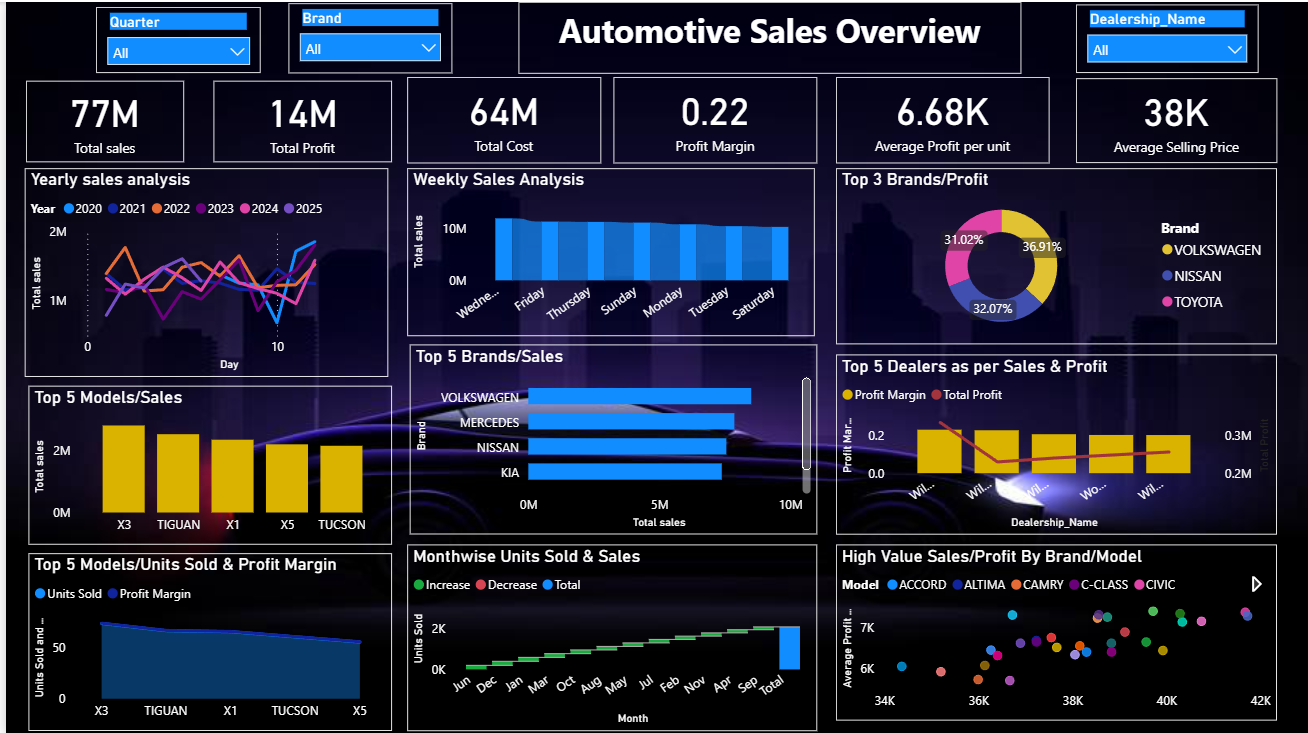

What the dashboard file says about the page in this screenshot:
{"tool":"powerbi","page":{"name":"Page 1","canvas":[1280,720],"ordinal":0},"visuals":[{"type":"textbox","box":[503.3,0,493.3,70],"z":0},{"type":"card","fields":{"Values":["Sales.Total sales"]},"box":[20,77.3,155,80],"z":1000},{"type":"card","fields":{"Values":["Sales.Profit Margin"]},"box":[596.3,73.6,200,84.7],"z":2000},{"type":"card","fields":{"Values":["Sales.Total Profit"]},"box":[203.7,77.3,175.5,79.8],"z":3000},{"type":"card","fields":{"Values":["Sales.Total Cost"]},"box":[393.9,73.6,190.2,84.7],"z":4000},{"type":"card","fields":{"Values":["Sales.Average Selling Price"]},"box":[1050.3,74.8,197.5,83.4],"z":5000},{"type":"card","fields":{"Values":["Sales.Average Profit per unit"]},"box":[814.7,73.6,209.8,84.7],"z":6000},{"type":"slicer","fields":{"Values":["DimCars.Brand"]},"box":[277.3,1.2,160.7,68.7],"z":7000},{"type":"slicer","fields":{"Values":["DimDate.Quarter"]},"box":[88.3,4.9,162,65],"z":8000},{"type":"slicer","fields":{"Values":["DimDealership.Dealership_Name"]},"box":[1050.3,2.5,179.1,67.5],"z":9000},{"type":"lineChart","title":"Yearly sales analysis","fields":{"Category":["DimDate.Date.Variation.Date Hierarchy.Day"],"Y":["Sales.Total sales"],"Series":["DimDate.Date.Variation.Date Hierarchy.Year"]},"box":[18.4,163.2,357.1,204.9],"z":10000},{"type":"ribbonChart","title":"Weekly Sales Analysis","fields":{"Y":["Sales.Total sales"],"Category":["DimDate.Weekday"]},"box":[393.9,163.2,400,164.4],"z":11000},{"type":"columnChart","title":"Top 5 Models/Sales","fields":{"Category":["DimCars.Model"],"Y":["Sales.Total sales"]},"box":[22.1,376.7,357.1,155.8],"z":12000},{"type":"barChart","title":"Top 5 Brands/Sales","fields":{"Category":["Sales.Brand"],"Y":["Sales.Total sales"]},"box":[396.3,336.2,400,186.5],"z":13000},{"type":"donutChart","title":"Top 3 Brands/Profit","fields":{"Category":["Sales.Brand"],"Y":["Sales.Total Profit"]},"box":[814.7,163.2,433.1,173],"z":14000},{"type":"lineClusteredColumnComboChart","title":"Top 5 Dealers as per Sales & Profit","fields":{"Category":["DimDealership.Dealership_Name"],"Y":["Sales.Profit Margin"],"Y2":["Sales.Total Profit"]},"box":[814.7,346,433.1,176.7],"z":15000},{"type":"stackedAreaChart","title":"Top 5 Models/Units Sold & Profit Margin","fields":{"Category":["DimCars.Model"],"Y":["Sales.Units Sold","Sales.Profit Margin"]},"box":[22.1,541.1,357.1,174.2],"z":16000},{"type":"waterfallChart","title":"Monthwise Units Sold & Sales","fields":{"Category":["DimDate.Month"],"Y":["Sales.Units Sold"]},"box":[393.9,532.5,402.5,182.8],"z":17000},{"type":"scatterChart","title":"High Value Sales/Profit By Brand/Model","fields":{"Category":["Sales.Brand"],"X":["Sales.Average Selling Price"],"Y":["Sales.Average Profit per unit"],"Series":["Sales.Model"]},"box":[814.7,532.5,433.1,173],"z":18000}]}

Visuals, with their boxes in screenshot pixels (x1, y1, x2, y2), scaled from the page's 1280x720 canvas onto the 1308x733 screenshot:
textbox: left=514, top=0, right=1018, bottom=71
card - Sales.Total sales: left=20, top=79, right=179, bottom=160
card - Sales.Profit Margin: left=609, top=75, right=814, bottom=161
card - Sales.Total Profit: left=208, top=79, right=387, bottom=160
card - Sales.Total Cost: left=403, top=75, right=597, bottom=161
card - Sales.Average Selling Price: left=1073, top=76, right=1275, bottom=161
card - Sales.Average Profit per unit: left=833, top=75, right=1047, bottom=161
slicer - DimCars.Brand: left=283, top=1, right=448, bottom=71
slicer - DimDate.Quarter: left=90, top=5, right=256, bottom=71
slicer - DimDealership.Dealership_Name: left=1073, top=3, right=1256, bottom=71
"Yearly sales analysis" lineChart: left=19, top=166, right=384, bottom=375
"Weekly Sales Analysis" ribbonChart: left=403, top=166, right=811, bottom=334
"Top 5 Models/Sales" columnChart: left=23, top=384, right=387, bottom=542
"Top 5 Brands/Sales" barChart: left=405, top=342, right=814, bottom=532
"Top 3 Brands/Profit" donutChart: left=833, top=166, right=1275, bottom=342
"Top 5 Dealers as per Sales & Profit" lineClusteredColumnComboChart: left=833, top=352, right=1275, bottom=532
"Top 5 Models/Units Sold & Profit Margin" stackedAreaChart: left=23, top=551, right=387, bottom=728
"Monthwise Units Sold & Sales" waterfallChart: left=403, top=542, right=814, bottom=728
"High Value Sales/Profit By Brand/Model" scatterChart: left=833, top=542, right=1275, bottom=718
